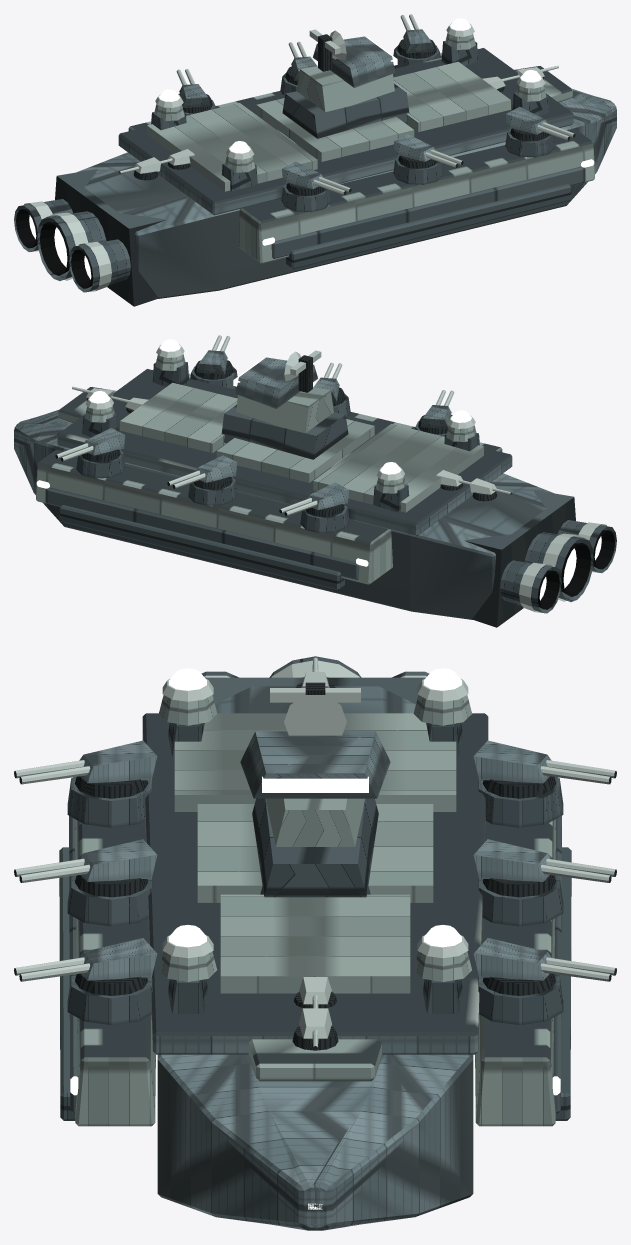
The model's file is cruiser.glb.
3 views of the same model, one above another, from view 1: azimuth 30°, elevation 25°; view 2: azimuth 150°, elevation 25°; view 3: azimuth 270°, elevation 25° (orthographic). The views are drawn at different scales.
Visible parts, largest first — view 1: hull_body, weapon_turrets, engine_block, sensor_tower, shield_pylons; view 2: hull_body, weapon_turrets, engine_block, sensor_tower, shield_pylons; view 3: hull_body, weapon_turrets, sensor_tower, shield_pylons, engine_block.
Part boxes in pixels (x1,y1,x2,y2): hull_body: (77,48,616,298); weapon_turrets: (119,14,575,212); engine_block: (14,169,166,306); sensor_tower: (282,29,409,138); shield_pylons: (151,18,548,191); hull_body: (14,369,553,619); weapon_turrets: (55,335,511,533); engine_block: (464,490,616,627); sensor_tower: (221,350,348,459); shield_pylons: (82,339,479,512); hull_body: (59,686,571,1230); weapon_turrets: (14,657,616,1050); sensor_tower: (240,682,390,897); shield_pylons: (158,668,472,1013); engine_block: (201,656,429,704).
Size of the model in its own units: 42 by 13.75 by 21.7.
1 material, 1 textured.
